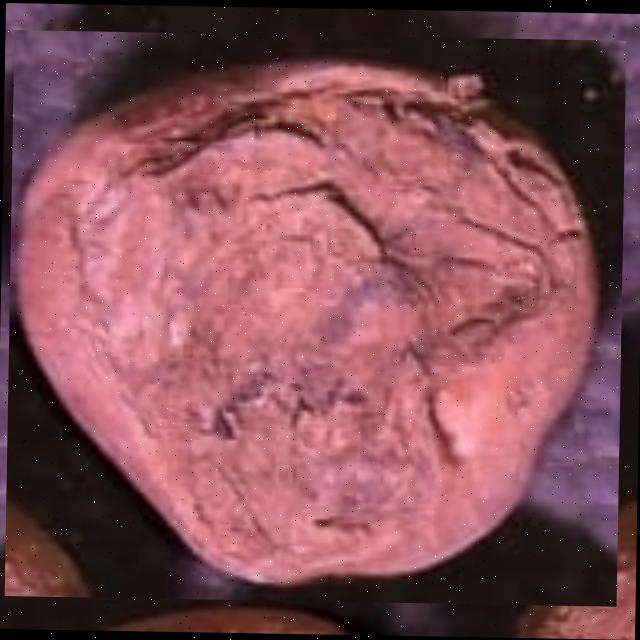Damaged potato: (4, 28, 626, 606)
